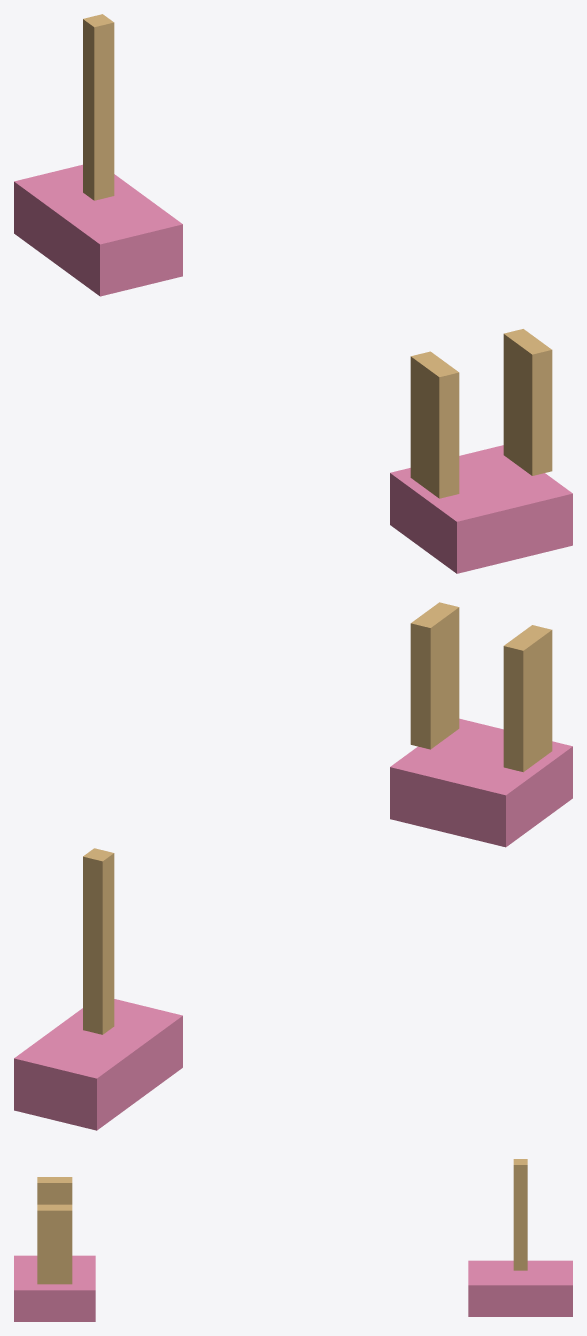
Rendered from IronSights.obj.
3 renders of one model, top to bottom at view 1: azimuth 30°, elevation 25°; view 2: azimuth 150°, elevation 25°; view 3: azimuth 270°, elevation 25°, orthographic. The views are drawn at different scales.
Visible parts, largest first — view 1: IronSights_Body, IronSights_Detail; view 2: IronSights_Body, IronSights_Detail; view 3: IronSights_Body, IronSights_Detail.
Boxes of the visible parts, x1,y1,x2,y2 form: IronSights_Body: [14, 164, 572, 573]; IronSights_Detail: [83, 14, 552, 498]; IronSights_Body: [14, 718, 572, 1130]; IronSights_Detail: [83, 602, 552, 1034]; IronSights_Body: [14, 1255, 572, 1321]; IronSights_Detail: [37, 1159, 527, 1284].
Size of the model in its own units: 0.07 by 0.135 by 0.48.
